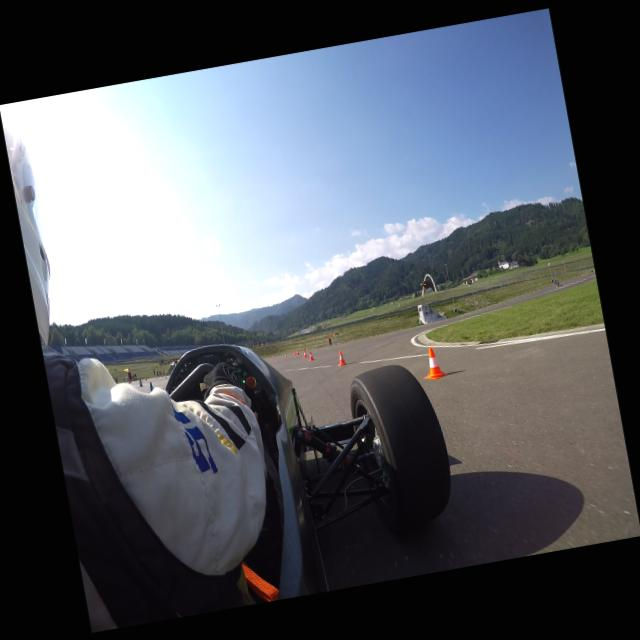blue_cone: (149, 381, 153, 390), (138, 378, 142, 386)
orange_cone: (422, 346, 444, 380), (336, 350, 346, 366), (308, 350, 314, 360), (302, 349, 306, 356), (293, 350, 295, 355), (284, 352, 286, 357), (296, 350, 298, 354), (271, 356, 273, 358)
